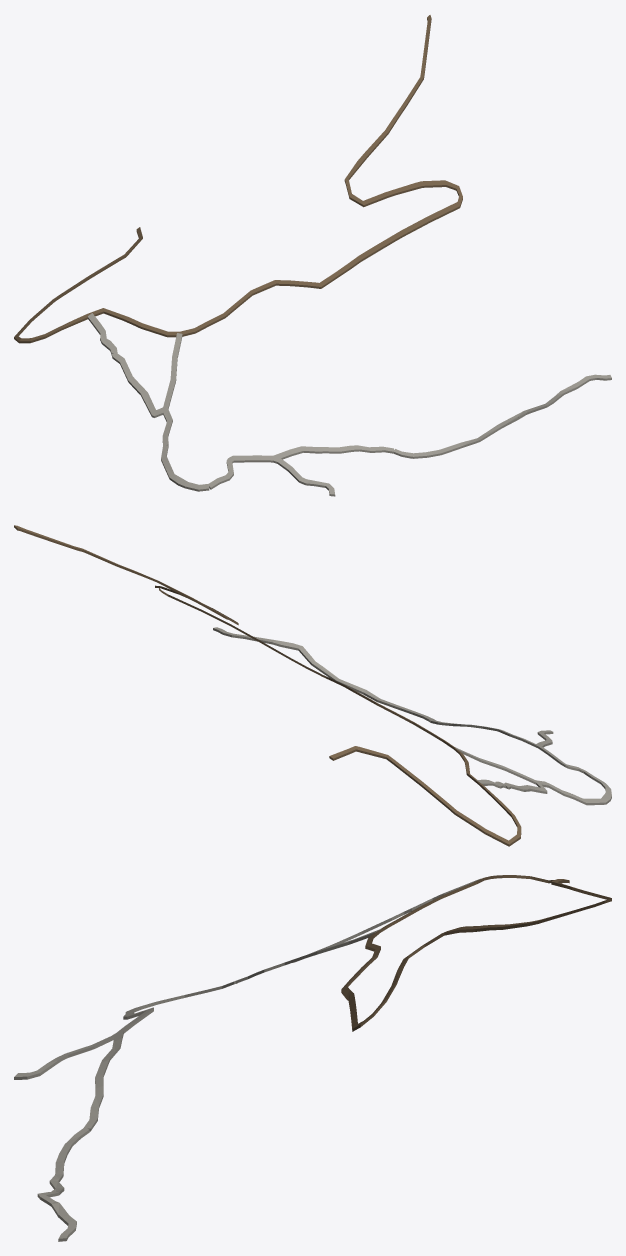
The model's file is 15-27350-14868.ddcc6a77.glb.
3 renders of one model, top to bottom at view 1: azimuth 30°, elevation 25°; view 2: azimuth 150°, elevation 25°; view 3: azimuth 270°, elevation 25°, orthographic. The views are drawn at different scales.
Bounding box in the file's own units: 162 × 93.68 × 127.
